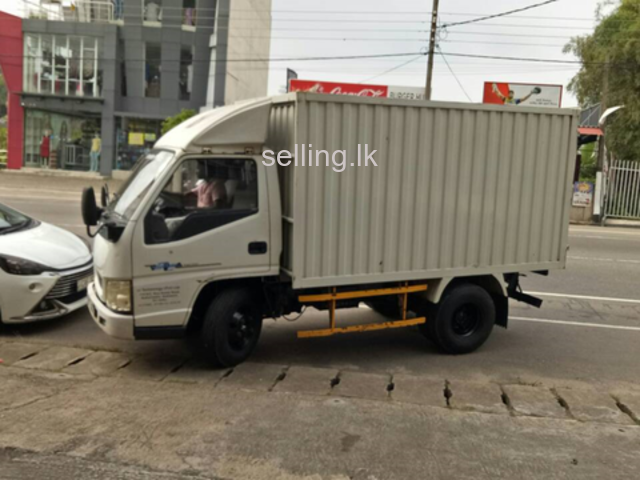car: (1, 201, 94, 326)
truck: (80, 93, 581, 369)
